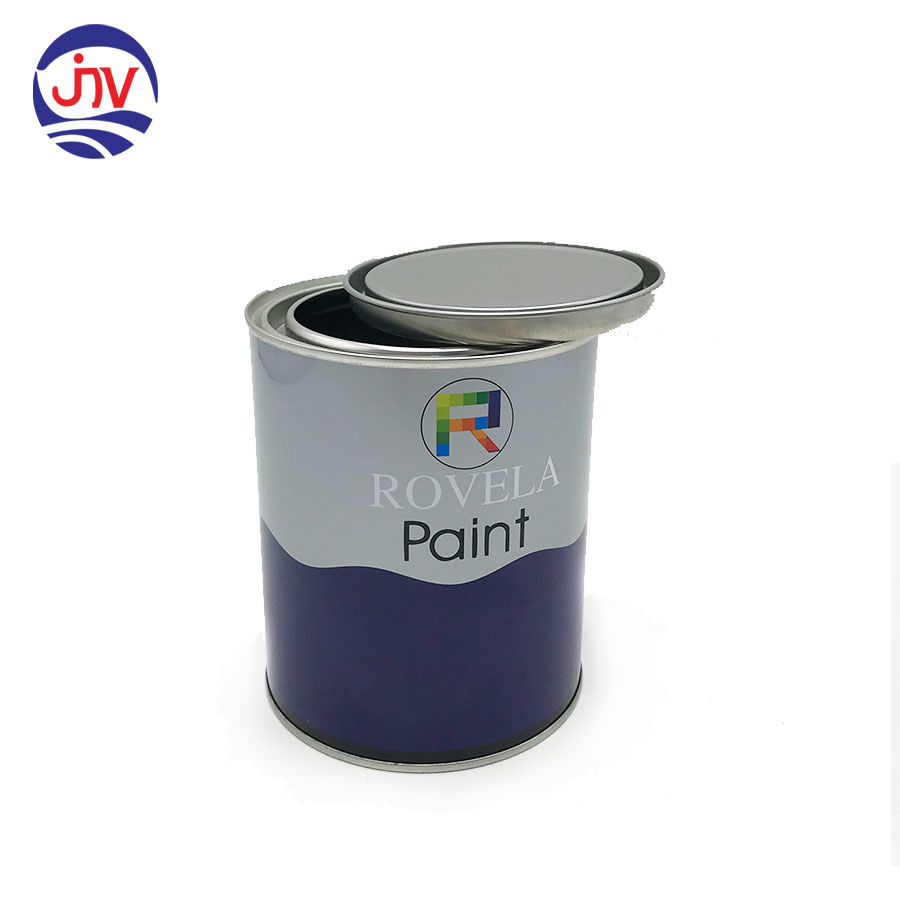metal: (241, 238, 667, 775)
